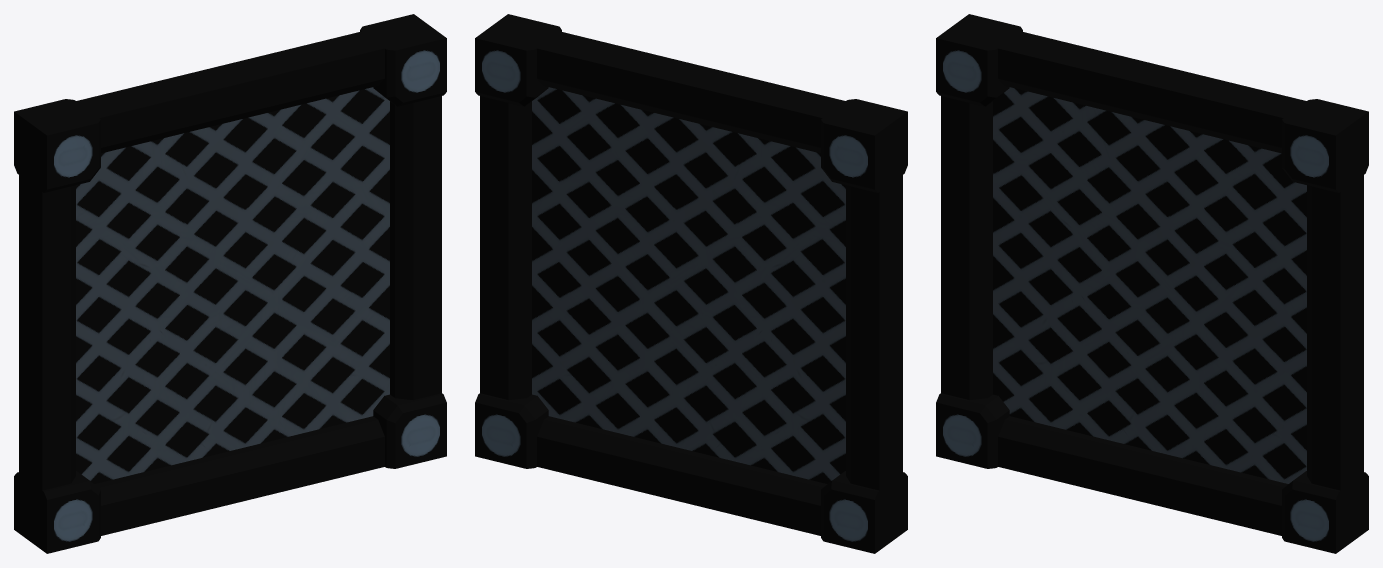
The model's file is obj_factory_building_wall_03.fbx.
3 views of the same model, side by side, from view 1: azimuth 30°, elevation 25°; view 2: azimuth 150°, elevation 25°; view 3: azimuth 330°, elevation 25° (orthographic).
Parts seen in each view (by area): view 1: obj_factory_building_fence_01_lp; view 2: obj_factory_building_fence_01_lp; view 3: obj_factory_building_fence_01_lp.
Boxes of the visible parts, <box> form: obj_factory_building_fence_01_lp: <box>14,14,446,553</box>; obj_factory_building_fence_01_lp: <box>475,14,907,553</box>; obj_factory_building_fence_01_lp: <box>936,14,1368,553</box>.
Bounding box in the file's own units: 7 × 7 × 1.
